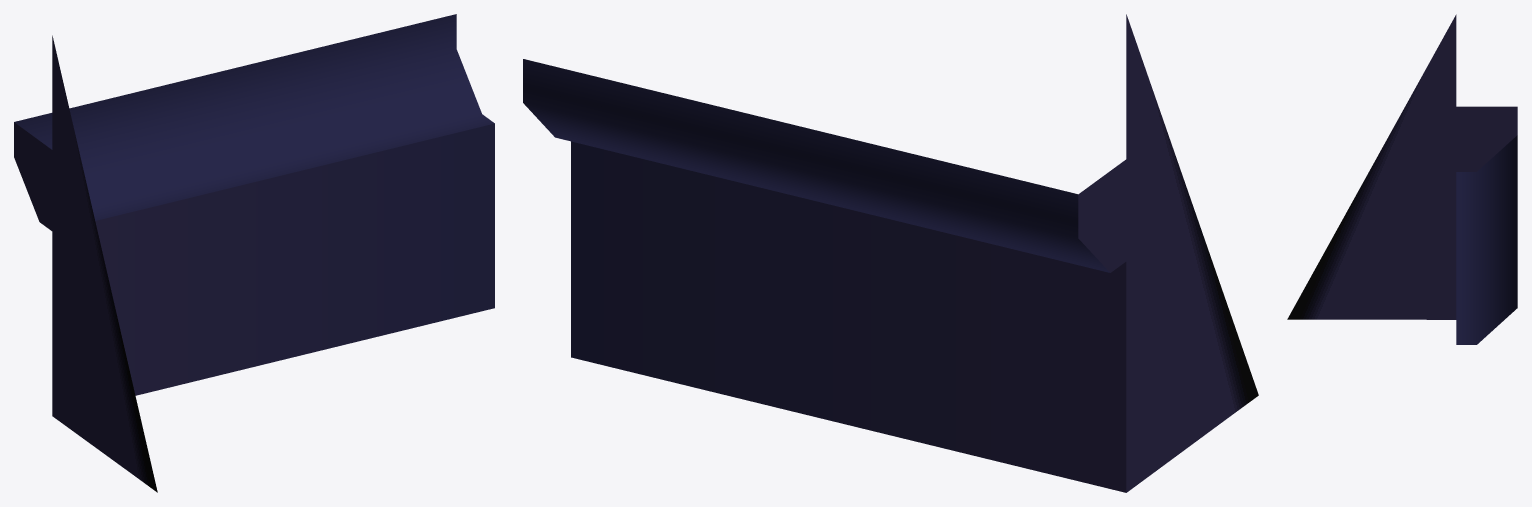
3 views of the same model, side by side, from view 1: azimuth 30°, elevation 25°; view 2: azimuth 150°, elevation 25°; view 3: azimuth 270°, elevation 25° (orthographic). The views are drawn at different scales.
Parts seen in each view (by area): view 1: Joint_0_Object_0; view 2: Joint_0_Object_0; view 3: Joint_0_Object_0.
Part boxes in pixels (left/top/right/bottom): Joint_0_Object_0: left=14, top=14, right=494, bottom=492; Joint_0_Object_0: left=523, top=14, right=1258, bottom=492; Joint_0_Object_0: left=1287, top=14, right=1517, bottom=344.
Size of the model in its own units: 1001 by 825 by 564.
1 material, 1 textured.
